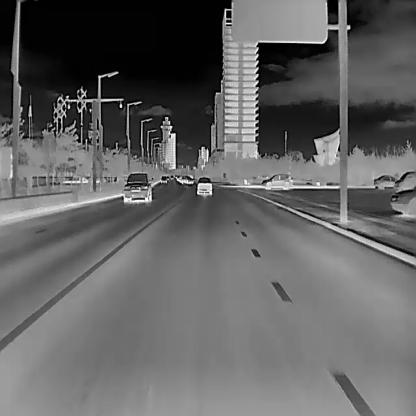car: (122, 172, 152, 203), (262, 172, 292, 188), (394, 170, 416, 191), (373, 172, 396, 188), (196, 176, 211, 195)
